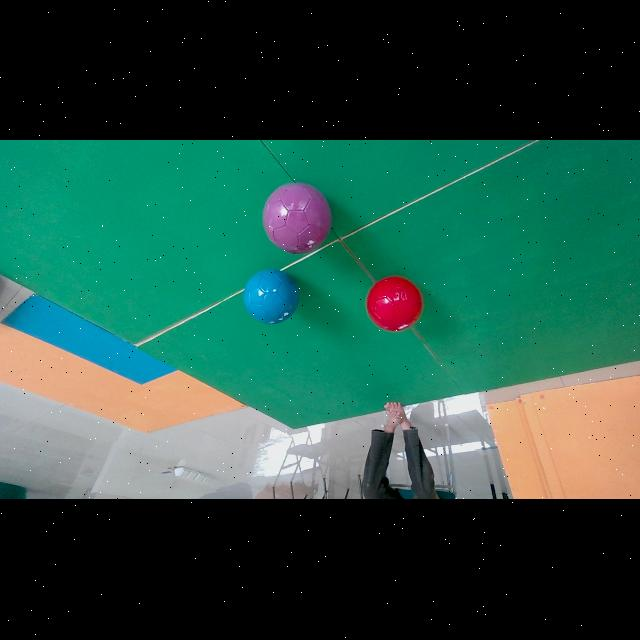B: (243, 270, 299, 324)
P: (262, 183, 331, 254)
R: (366, 277, 423, 332)
